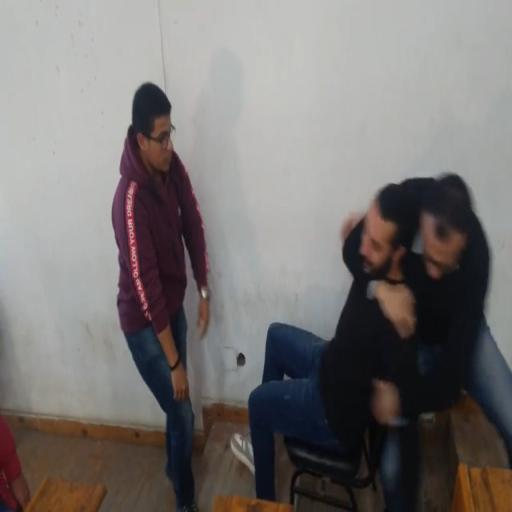violencia: (224, 159, 512, 510)
